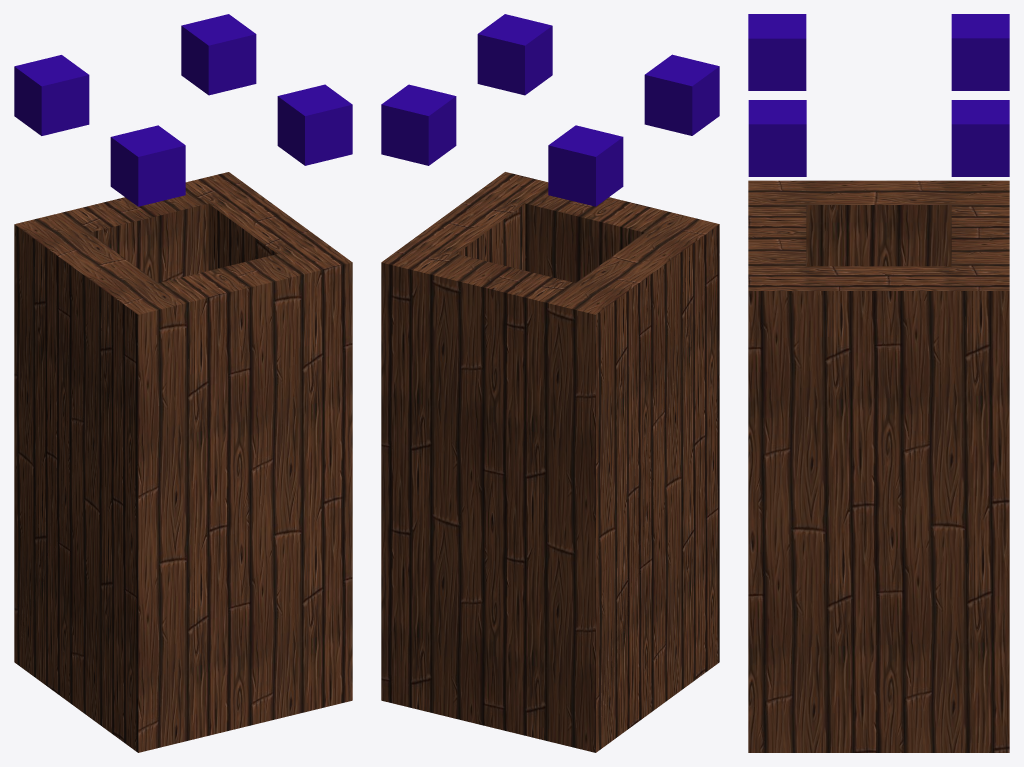
The model's file is Ball_Blue.fbx.
The picture shows the model from 3 angles, left to right: view 1: azimuth 30°, elevation 25°; view 2: azimuth 150°, elevation 25°; view 3: azimuth 270°, elevation 25°; orthographic projection. The views are drawn at different scales.
Parts seen in each view (by area): view 1: pCube15, pCube14, pCube12, pCube13, pCube11; view 2: pCube15, pCube11, pCube12, pCube13, pCube14; view 3: pCube15, pCube11, pCube12, pCube13, pCube14.
Boxes of the visible parts, x1,y1,x2,y2 form: pCube15: (14, 172, 352, 752); pCube14: (110, 125, 185, 206); pCube12: (181, 14, 256, 95); pCube13: (277, 84, 352, 165); pCube11: (14, 55, 89, 135); pCube15: (381, 172, 719, 752); pCube11: (548, 125, 623, 206); pCube12: (381, 84, 456, 165); pCube13: (477, 14, 552, 95); pCube14: (644, 54, 719, 135); pCube15: (748, 180, 1009, 752); pCube11: (951, 14, 1009, 90); pCube12: (951, 100, 1009, 176); pCube13: (748, 100, 806, 176); pCube14: (748, 14, 806, 90).
Bounding box in the file's own units: 4.51 × 11.97 × 4.51.
2 materials, 1 textured.
